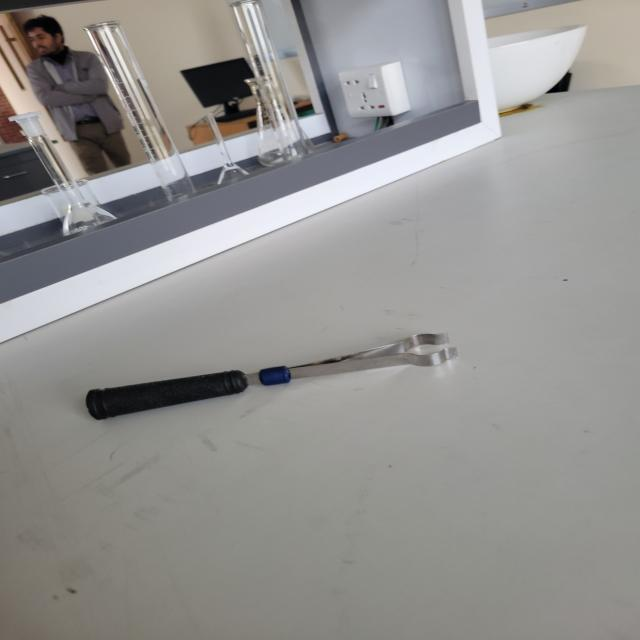TestTube_Holder: (60, 304, 495, 466)
